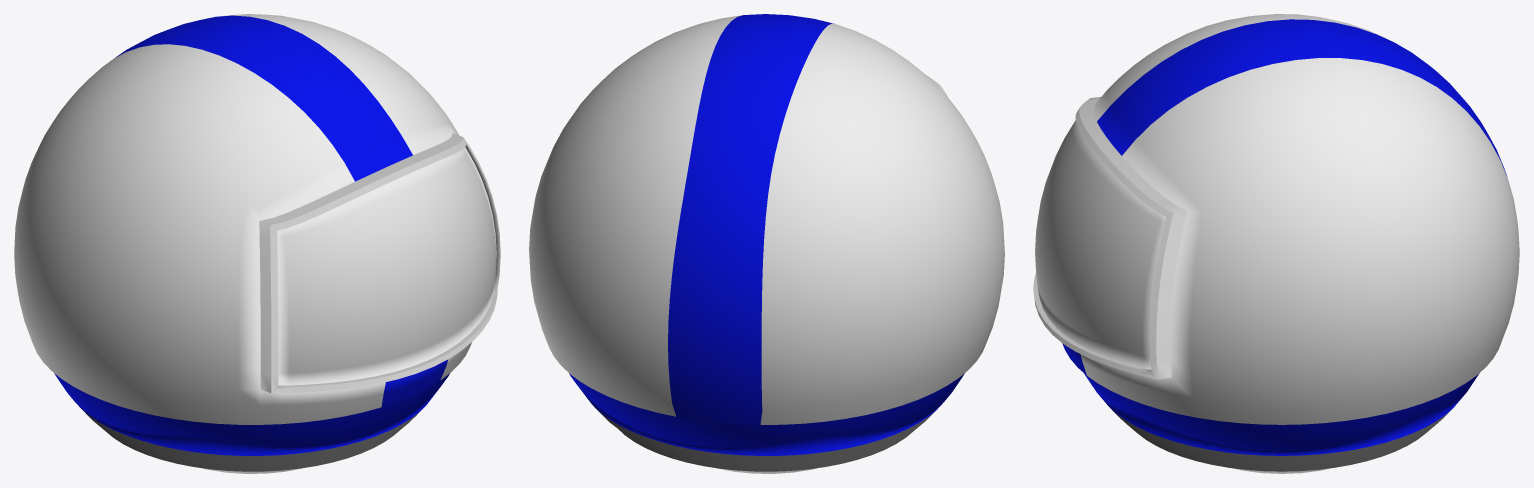
Rendered from quantum_zero_height2.fbx.
3 views of the same model, side by side, from view 1: azimuth 30°, elevation 25°; view 2: azimuth 150°, elevation 25°; view 3: azimuth 270°, elevation 25° (orthographic).
Visible parts, largest first — view 1: Top, Screen, Bottom; view 2: Top, Bottom; view 3: Top, Screen, Bottom.
Boxes of the visible parts, box(x1,y1,x2,y2) form: Top: box(14, 14, 500, 424); Screen: box(277, 147, 496, 385); Bottom: box(54, 373, 449, 473); Top: box(529, 14, 1004, 424); Bottom: box(569, 373, 964, 473); Top: box(1033, 14, 1519, 424); Screen: box(1035, 120, 1165, 369); Bottom: box(1084, 373, 1479, 473).
Bounding box in the file's own units: 0.4757 × 0.4591 × 0.4862.
